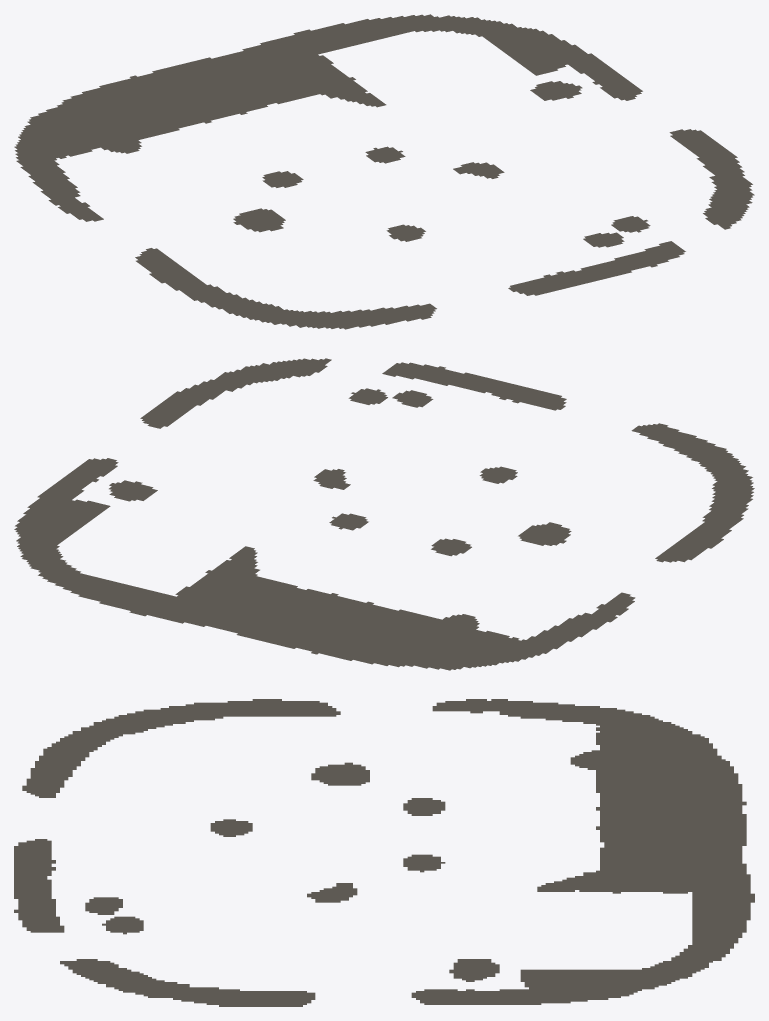
File: Map-3-NoBuildArea.fbx
The picture shows the model from 3 angles, top to bottom: view 1: azimuth 30°, elevation 25°; view 2: azimuth 150°, elevation 25°; view 3: azimuth 270°, elevation 25°; orthographic projection. The views are drawn at different scales.
Visible parts, largest first — view 1: Map-3-NoBuildArea; view 2: Map-3-NoBuildArea; view 3: Map-3-NoBuildArea.
Part boxes in pixels (box(x1,y1,x2,y2)): Map-3-NoBuildArea: box(14, 14, 754, 329); Map-3-NoBuildArea: box(14, 358, 754, 670); Map-3-NoBuildArea: box(14, 699, 754, 1006).
Bounding box in the file's own units: 174 × 0 × 177.
